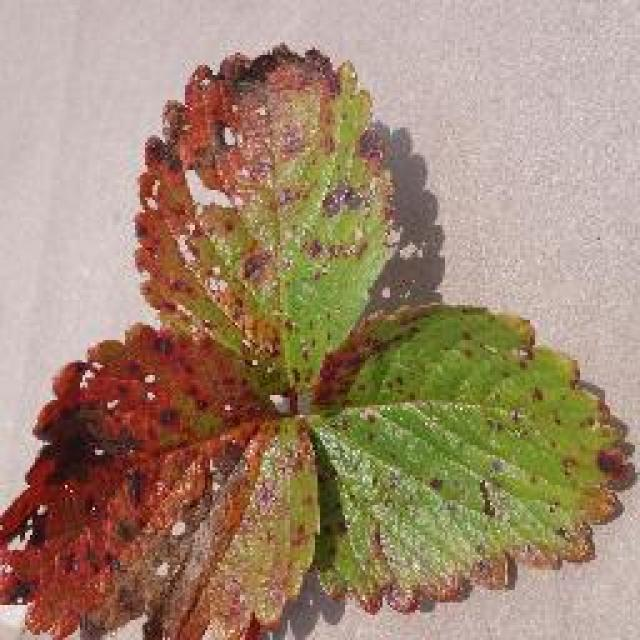Strawberry leaf scorch: (138, 136, 554, 612)
